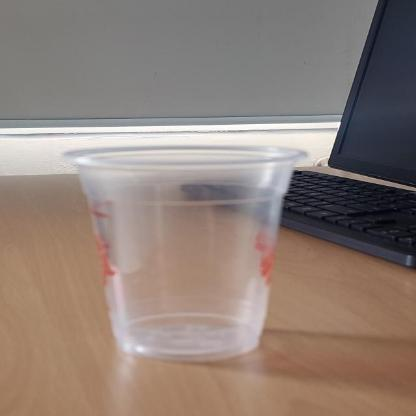Plastic Cup: (62, 144, 312, 362)
